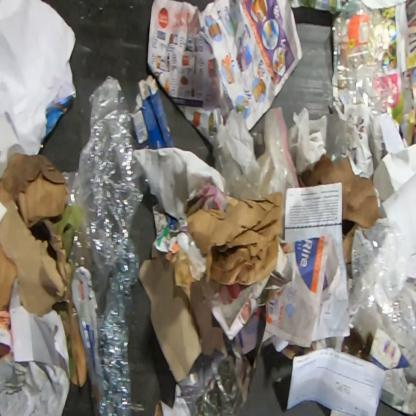cardboard: (0, 153, 88, 388), (186, 193, 285, 287), (139, 242, 202, 382), (132, 73, 175, 149), (370, 143, 415, 202), (152, 382, 192, 416), (150, 194, 181, 236), (46, 98, 72, 137)
soft_plastic: (59, 74, 150, 415), (210, 105, 312, 216), (331, 0, 415, 118), (348, 216, 415, 350), (176, 231, 207, 268)
